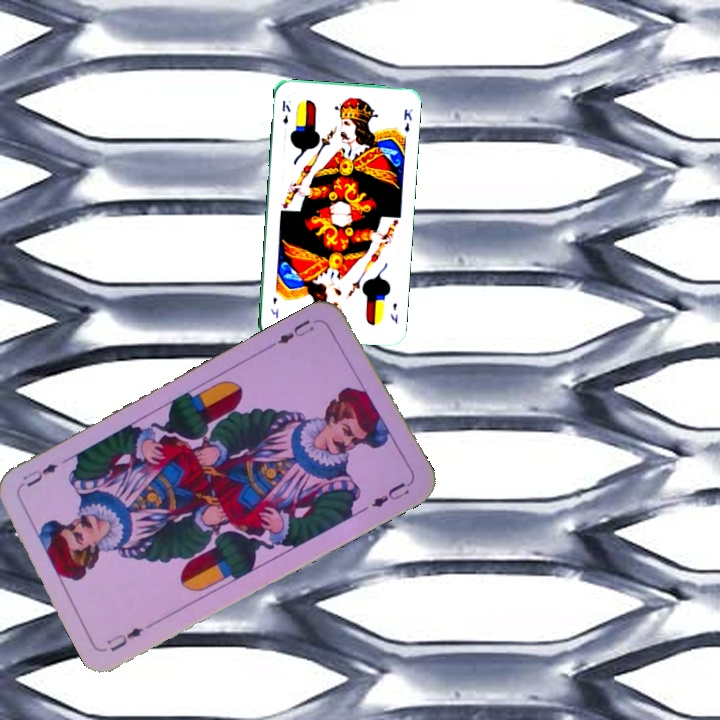EK: (278, 97, 293, 127), (386, 299, 400, 326)
EU: (269, 314, 324, 349), (102, 623, 146, 654)
